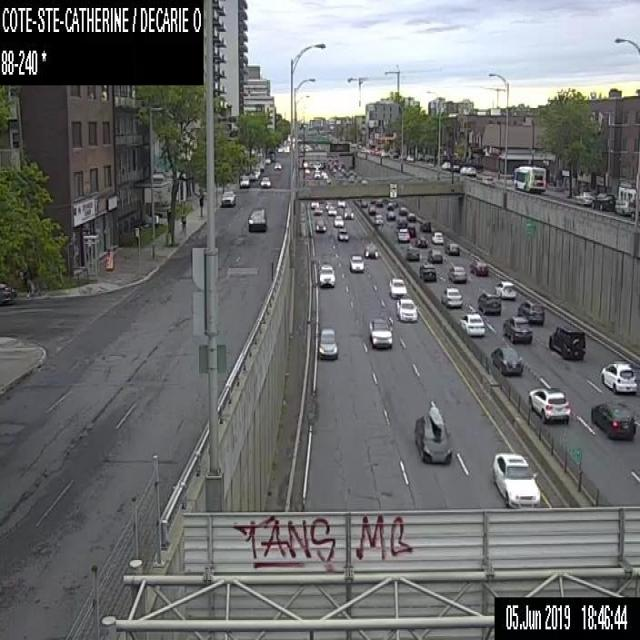bus: (513, 166, 545, 190)
vehicle: (492, 452, 540, 508), (413, 400, 453, 465), (590, 402, 636, 438), (528, 388, 570, 422), (548, 326, 585, 360), (601, 362, 636, 392), (490, 346, 522, 374), (502, 316, 532, 342), (517, 299, 544, 325), (369, 318, 391, 346), (318, 328, 336, 359), (477, 292, 500, 314), (460, 313, 484, 334), (396, 297, 417, 321), (248, 208, 266, 232), (494, 280, 515, 299), (442, 287, 462, 306), (592, 192, 614, 208), (318, 264, 334, 286), (389, 277, 406, 297), (470, 259, 488, 276), (573, 190, 594, 204), (448, 266, 466, 282), (420, 264, 436, 281), (614, 200, 634, 213), (349, 254, 364, 270), (427, 248, 442, 263), (221, 190, 235, 206), (363, 243, 378, 257), (444, 242, 459, 254), (397, 228, 409, 241), (405, 248, 418, 260), (431, 232, 443, 244), (415, 236, 428, 247), (337, 228, 347, 240), (316, 219, 326, 231), (343, 207, 353, 219), (396, 217, 406, 228), (333, 214, 342, 226), (420, 221, 430, 231), (407, 224, 415, 236), (385, 211, 395, 220), (260, 176, 269, 185), (327, 205, 336, 214), (240, 176, 248, 186), (466, 166, 476, 174), (375, 213, 382, 224), (313, 206, 321, 214), (441, 161, 449, 169), (407, 212, 415, 220), (398, 206, 406, 214), (368, 207, 376, 215), (313, 169, 320, 178), (249, 172, 257, 179), (253, 168, 260, 175), (386, 202, 393, 209), (375, 200, 382, 207), (337, 200, 345, 206), (325, 202, 333, 208), (453, 164, 459, 172), (311, 201, 318, 207), (460, 165, 466, 172), (360, 200, 367, 206), (274, 162, 281, 168), (392, 152, 398, 158), (277, 146, 283, 152), (406, 155, 413, 160), (348, 175, 353, 181), (265, 158, 270, 163), (259, 166, 264, 171), (304, 168, 309, 173), (322, 174, 328, 178), (320, 171, 326, 175), (302, 161, 306, 166)
